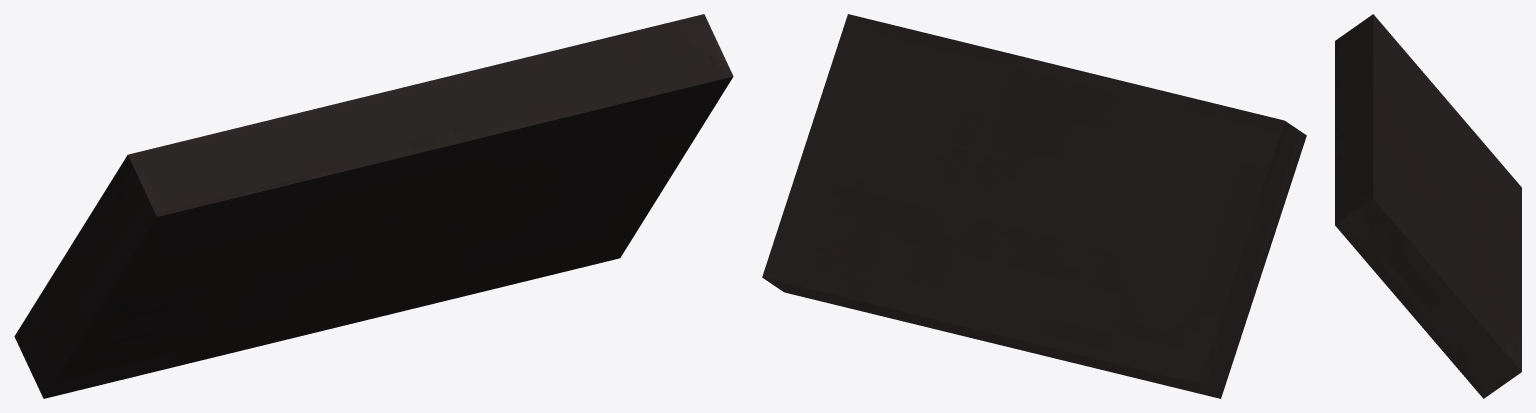
Rendered from support_arm__arm_web.glb.
The picture shows the model from 3 angles, left to right: view 1: azimuth 30°, elevation 25°; view 2: azimuth 150°, elevation 25°; view 3: azimuth 270°, elevation 25°; orthographic projection. The views are drawn at different scales.
Visible parts, largest first — view 1: world; view 2: world; view 3: world.
Part boxes in pixels (box(x1,y1,x2,y2)): world: box(14, 14, 733, 398); world: box(762, 14, 1306, 398); world: box(1335, 14, 1521, 398).
Size of the model in its own units: 0.18 by 0.0913 by 0.0771.
1 material, 1 textured.
